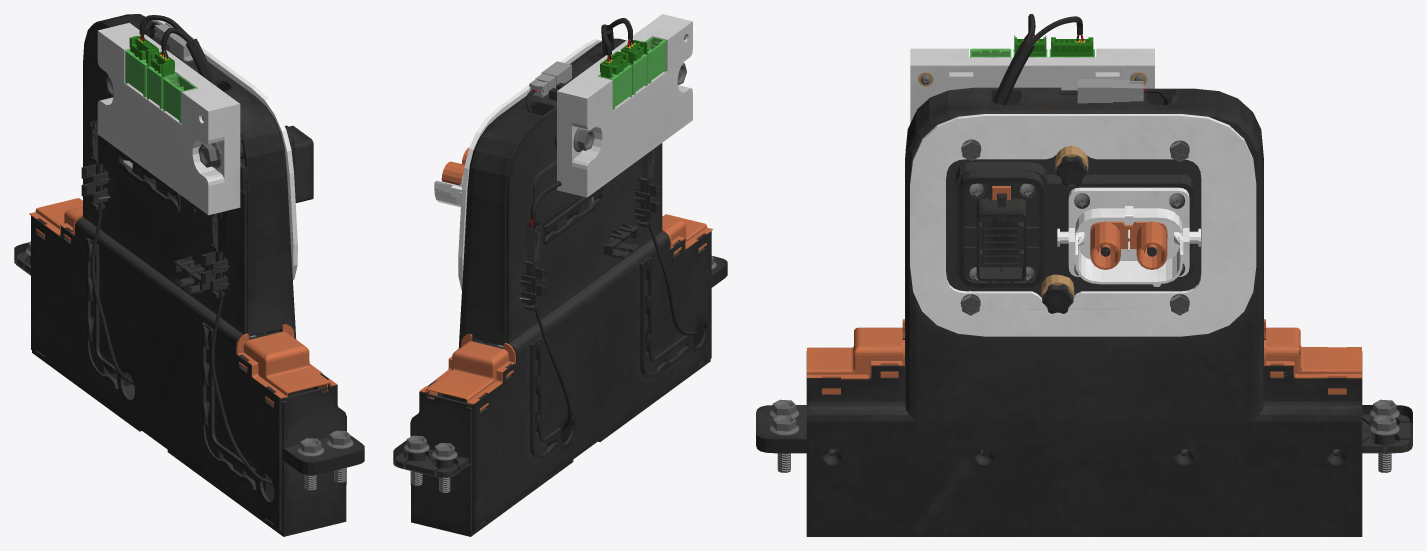
The model's file is E5_动力电池_充电口总成.FBX.
3 renders of one model, left to right at view 1: azimuth 30°, elevation 25°; view 2: azimuth 150°, elevation 25°; view 3: azimuth 270°, elevation 25°, orthographic. The views are drawn at different scales.
Parts seen in each view (by area): view 1: DLDC_CDK_MKZC_01, DLDC_TXMK, DLDC_CDK_MK_DP, DLDC_TXMK_JCK, DLDC_CDK_MK_LS, DLDC_TXMK_LS; view 2: DLDC_CDK_MKZC_01, DLDC_TXMK, DLDC_CDK_MK_DP, DLDC_TXMK_JCK, DLDC_CDK_MK_LS, DLDC_TXMK_LS; view 3: DLDC_CDK_MKZC_01, DLDC_TXMK, DLDC_CDK_MK_DP, DLDC_CDK_MK_LS.
Part boxes in pixels (x1,y1,x2,y2): DLDC_CDK_MKZC_01: [14, 14, 364, 536]; DLDC_TXMK: [97, 22, 240, 215]; DLDC_CDK_MK_DP: [29, 198, 337, 404]; DLDC_TXMK_JCK: [125, 49, 196, 123]; DLDC_CDK_MK_LS: [25, 241, 353, 490]; DLDC_TXMK_LS: [106, 76, 221, 168]; DLDC_CDK_MKZC_01: [393, 18, 727, 536]; DLDC_TXMK: [557, 14, 692, 197]; DLDC_CDK_MK_DP: [419, 214, 713, 411]; DLDC_TXMK_JCK: [598, 37, 666, 109]; DLDC_CDK_MK_LS: [404, 255, 716, 492]; DLDC_TXMK_LS: [573, 63, 686, 151]; DLDC_CDK_MKZC_01: [756, 14, 1412, 536]; DLDC_TXMK: [910, 48, 1154, 122]; DLDC_CDK_MK_DP: [807, 319, 1361, 394]; DLDC_CDK_MK_LS: [769, 399, 1399, 472].
Bounding box in the file's own units: 9.5 × 26.86 × 33.14.
11 materials, 3 textured.
